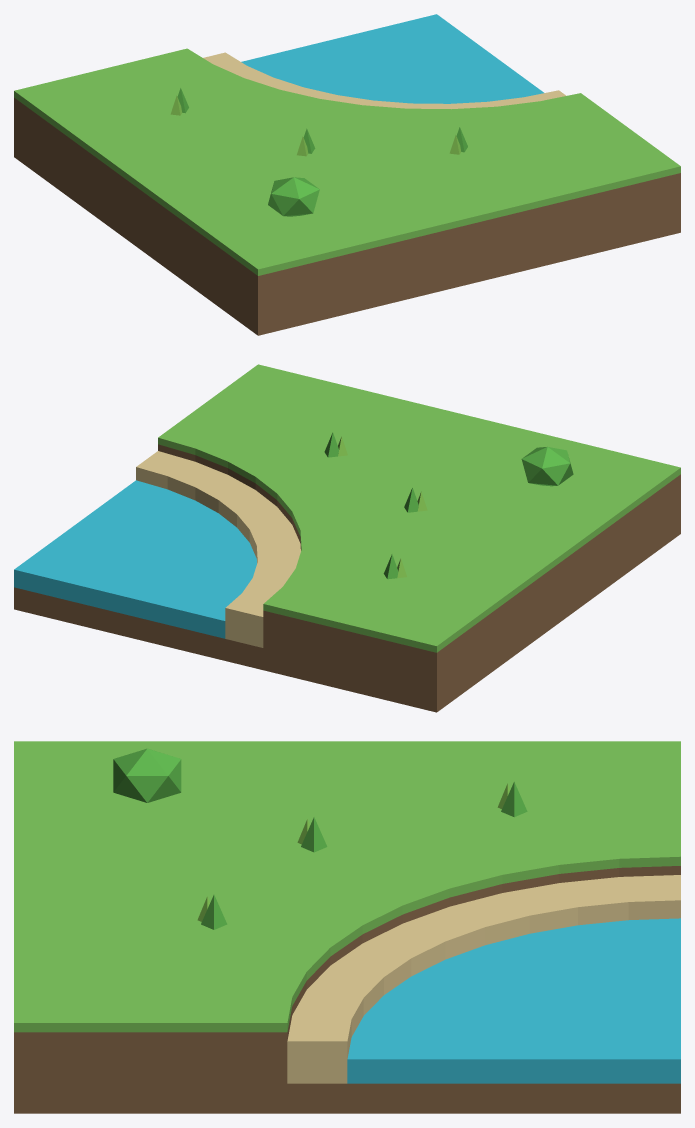
The model's file is margem_canto.glb.
The picture shows the model from 3 angles, top to bottom: view 1: azimuth 30°, elevation 25°; view 2: azimuth 150°, elevation 25°; view 3: azimuth 270°, elevation 25°; orthographic projection. The views are drawn at different scales.
Parts seen in each view (by area): view 1: corpo; view 2: corpo; view 3: corpo.
Boxes of the visible parts, x1,y1,x2,y2 form: corpo: (14,14,680,335); corpo: (14,364,680,712); corpo: (14,741,680,1113).
Size of the model in its own units: 2 by 0.462 by 2.
